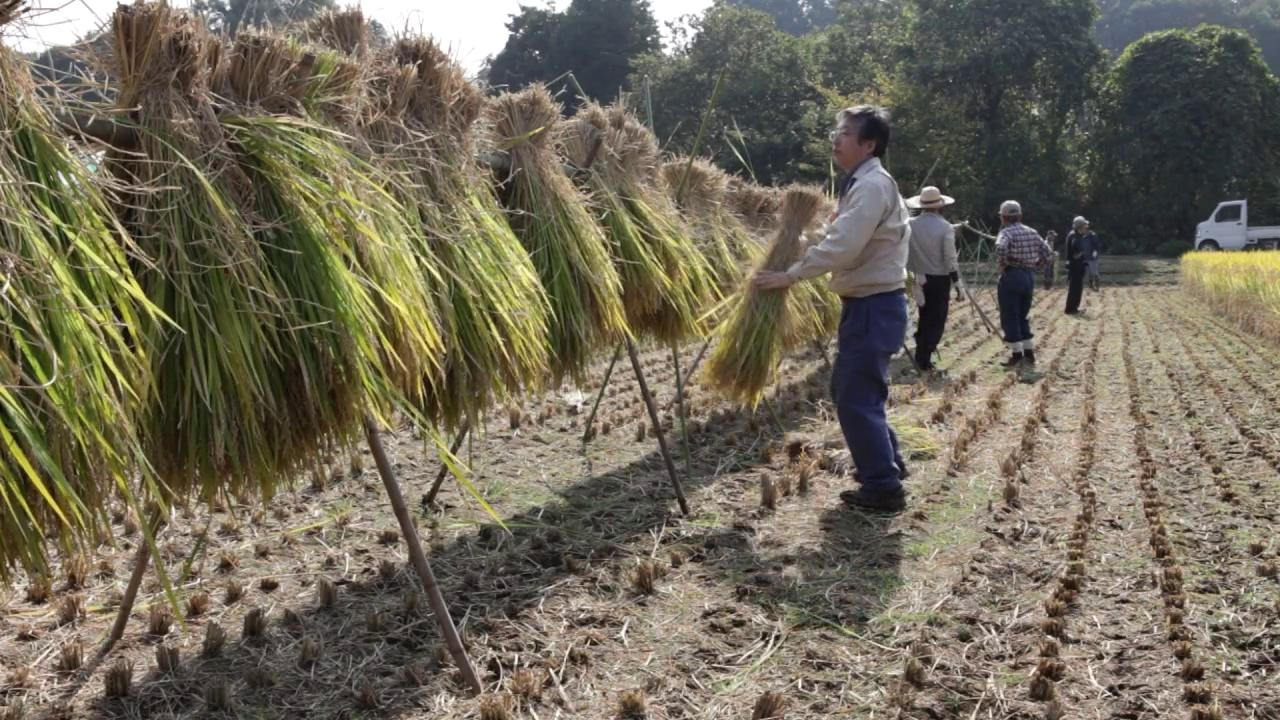victim: (744, 102, 925, 532), (892, 180, 968, 372), (982, 199, 1047, 377), (1061, 214, 1107, 322), (1042, 228, 1064, 290)
